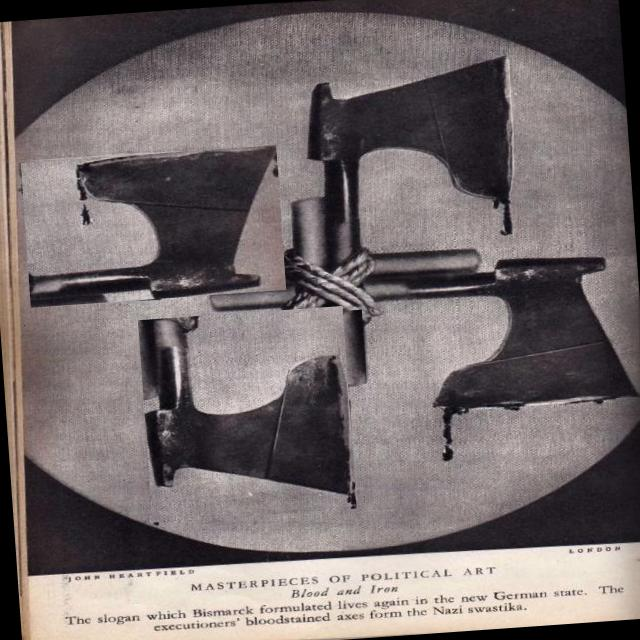Axe: (366, 258, 637, 458), (307, 57, 512, 266), (145, 318, 356, 508), (30, 145, 276, 298), (331, 310, 366, 385), (291, 197, 327, 265), (209, 282, 293, 311)
